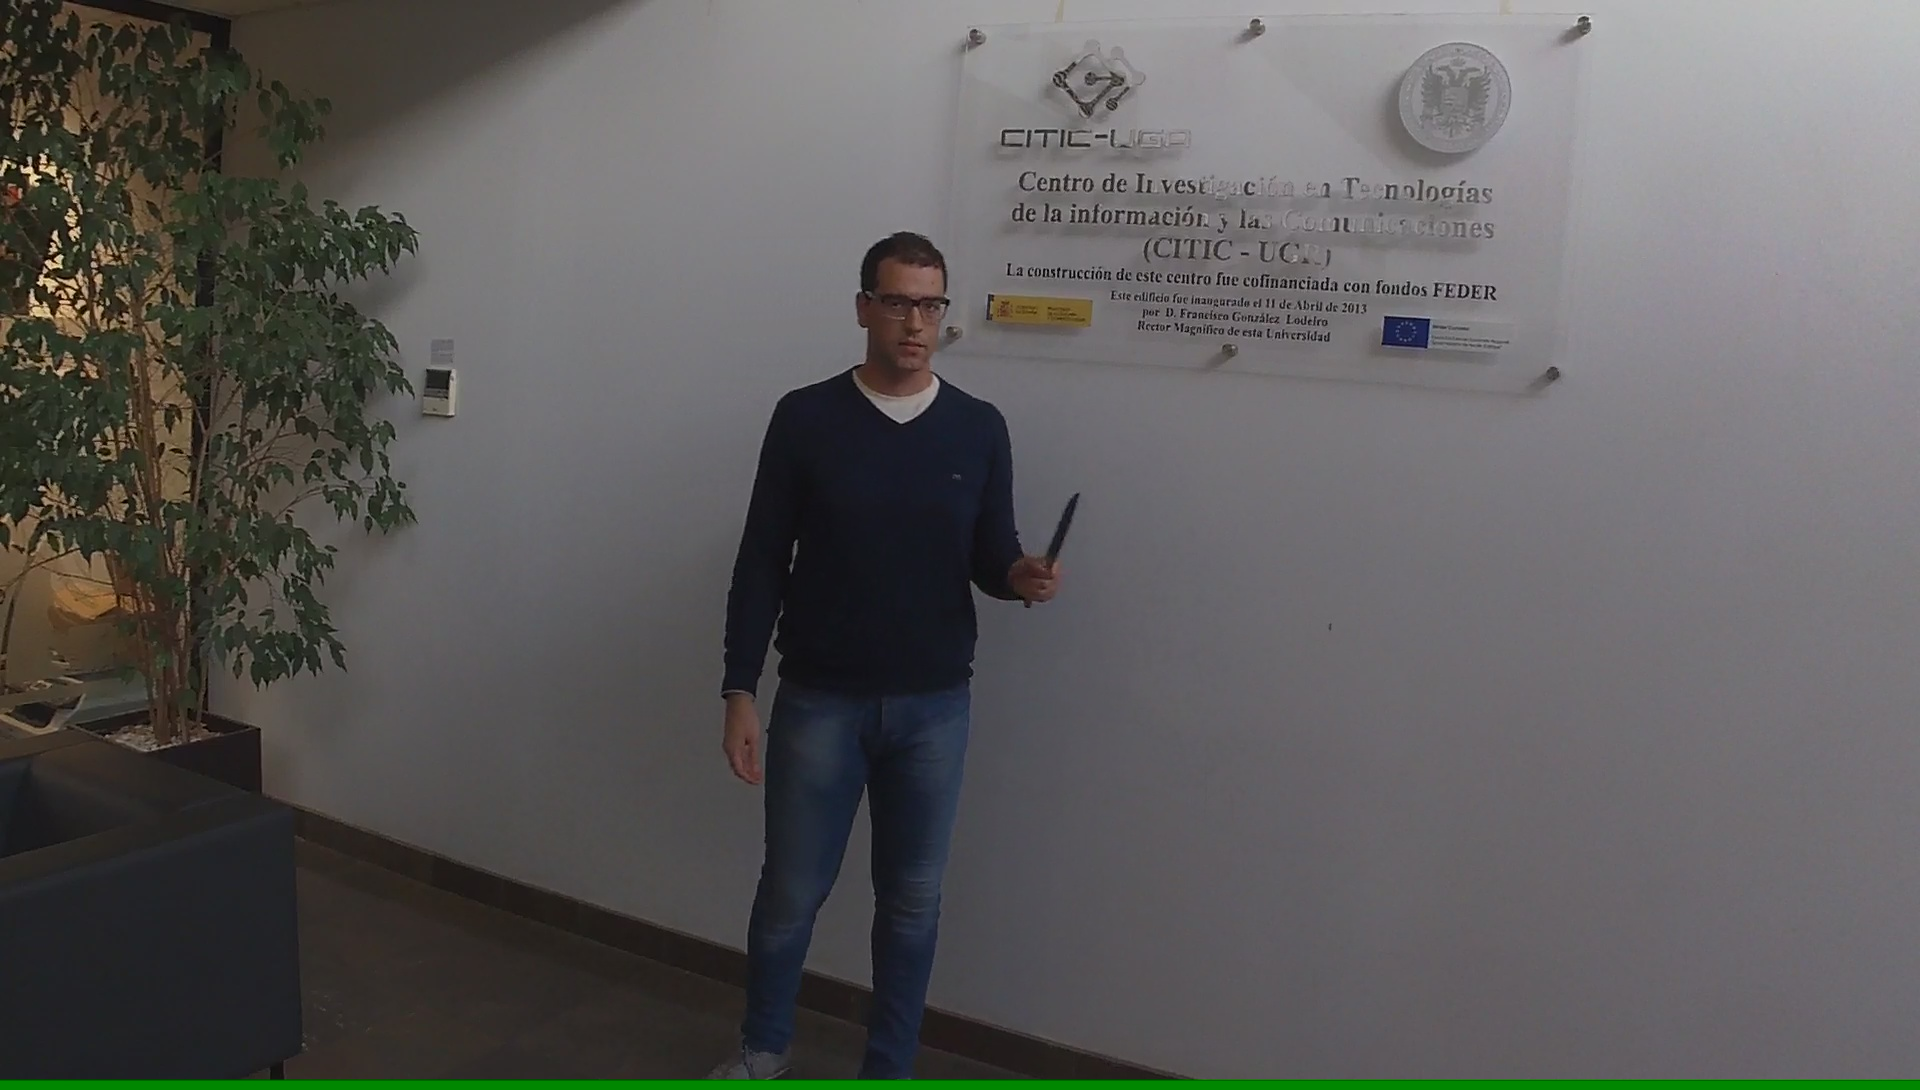knife: (1018, 482, 1087, 612)
